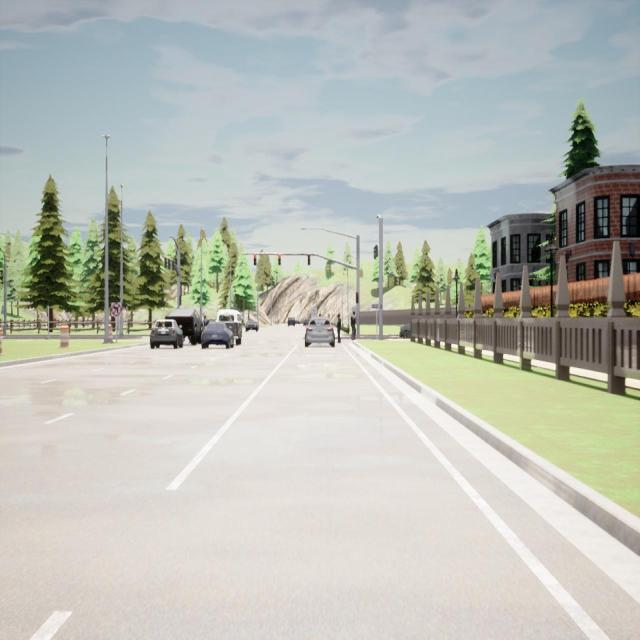Pedestrian: (336, 314, 341, 343), (351, 311, 356, 340), (36, 315, 41, 334)
Traffic_Signs: (111, 303, 122, 317), (372, 304, 382, 309), (312, 308, 316, 317)
Vehicle: (166, 309, 203, 344), (150, 320, 184, 349), (216, 310, 243, 346), (201, 321, 234, 349), (305, 317, 335, 347), (399, 322, 411, 338), (245, 320, 259, 333), (288, 316, 295, 327), (295, 320, 300, 324)
traffic_light: (373, 245, 378, 259), (254, 254, 256, 265), (308, 254, 310, 265), (356, 293, 358, 303), (278, 255, 280, 265)
